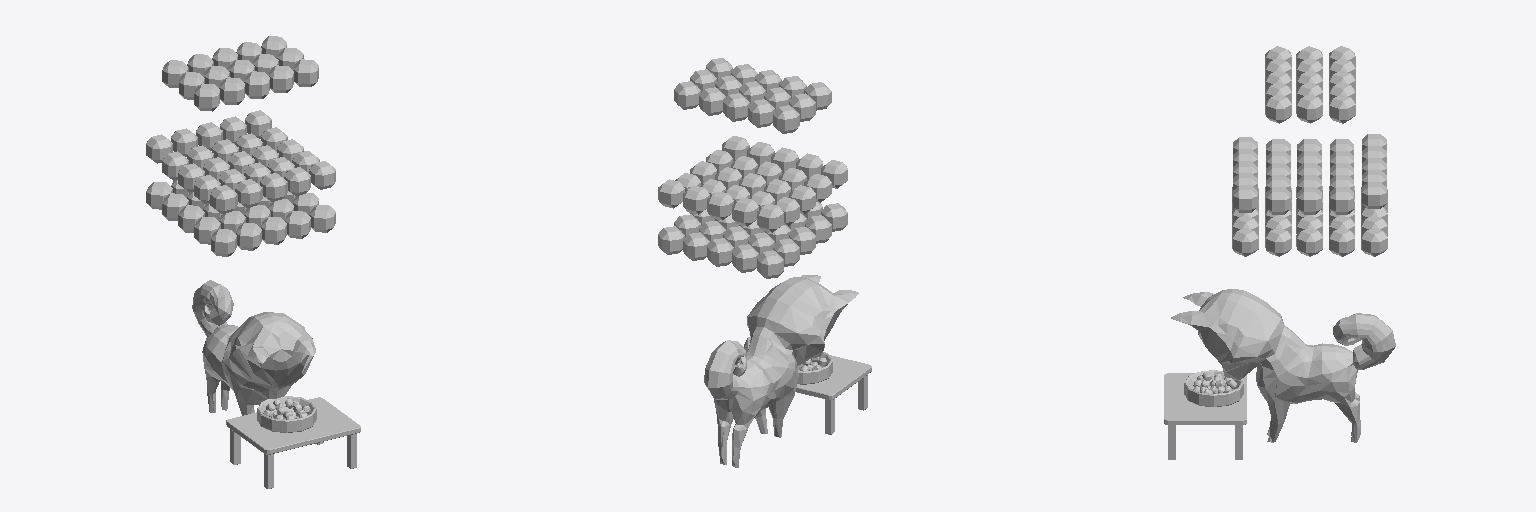
File: fullBowl_frame36.obj
3 views of the same model, side by side, from view 1: azimuth 30°, elevation 25°; view 2: azimuth 150°, elevation 25°; view 3: azimuth 270°, elevation 25° (orthographic).
Visible parts, largest first — view 1: newRigging1:BodzL1, Tisch:Tisch:pCube1, FressnapfFull:bulletRigidSetSolved1, FressnapfFull:pCube57, FressnapfFull:pCube45, FressnapfFull:pCube46, FressnapfFull:pCube36, FressnapfFull:pCube43, FressnapfFull:pCube50, FressnapfFull:pCube42, FressnapfFull:pCube48, FressnapfFull:pCube49 (+10 smaller); view 2: newRigging1:BodzL1, Tisch:Tisch:pCube1, FressnapfFull:pCube51, FressnapfFull:pCube39, FressnapfFull:pCube64, FressnapfFull:pCube53, FressnapfFull:pCube55, FressnapfFull:pCube54, FressnapfFull:pCube37, FressnapfFull:pCube38, FressnapfFull:pCube41, FressnapfFull:pCube61 (+8 smaller); view 3: newRigging1:BodzL1, Tisch:Tisch:pCube1, FressnapfFull:bulletRigidSetSolved1, FressnapfFull:pCube31, FressnapfFull:pCube55, FressnapfFull:pCube4, FressnapfFull:pCube41, FressnapfFull:pCube10, FressnapfFull:pCube36, FressnapfFull:pCube50, FressnapfFull:pCube30, FressnapfFull:pCube25 (+4 smaller).
Part boxes in pixels (bbox=[...]): newRigging1:BodzL1: bbox=[192, 280, 315, 415]; Tisch:Tisch:pCube1: bbox=[226, 397, 360, 488]; FressnapfFull:bulletRigidSetSolved1: bbox=[257, 396, 316, 432]; FressnapfFull:pCube57: bbox=[210, 185, 237, 213]; FressnapfFull:pCube45: bbox=[194, 83, 219, 111]; FressnapfFull:pCube46: bbox=[211, 229, 236, 256]; FressnapfFull:pCube36: bbox=[293, 59, 318, 86]; FressnapfFull:pCube43: bbox=[244, 71, 269, 98]; FressnapfFull:pCube50: bbox=[309, 205, 335, 232]; FressnapfFull:pCube42: bbox=[219, 77, 244, 104]; FressnapfFull:pCube48: bbox=[261, 217, 286, 244]; FressnapfFull:pCube49: bbox=[236, 223, 261, 250]; newRigging1:BodzL1: bbox=[704, 275, 858, 467]; Tisch:Tisch:pCube1: bbox=[796, 355, 871, 434]; FressnapfFull:pCube51: bbox=[757, 250, 783, 278]; FressnapfFull:pCube39: bbox=[773, 105, 799, 133]; FressnapfFull:pCube64: bbox=[757, 203, 783, 232]; FressnapfFull:pCube53: bbox=[707, 238, 733, 266]; FressnapfFull:pCube55: bbox=[658, 226, 684, 254]; FressnapfFull:pCube54: bbox=[732, 244, 758, 272]; FressnapfFull:pCube37: bbox=[748, 99, 774, 127]; FressnapfFull:pCube38: bbox=[723, 93, 749, 121]; FressnapfFull:pCube41: bbox=[674, 81, 700, 109]; FressnapfFull:pCube61: bbox=[732, 197, 758, 226]; newRigging1:BodzL1: bbox=[1171, 289, 1395, 442]; Tisch:Tisch:pCube1: bbox=[1164, 373, 1246, 459]; FressnapfFull:bulletRigidSetSolved1: bbox=[1184, 370, 1243, 406]; FressnapfFull:pCube31: bbox=[1296, 94, 1322, 123]; FressnapfFull:pCube55: bbox=[1361, 228, 1387, 256]; FressnapfFull:pCube4: bbox=[1296, 227, 1322, 256]; FressnapfFull:pCube41: bbox=[1329, 94, 1355, 123]; FressnapfFull:pCube10: bbox=[1265, 228, 1291, 256]; FressnapfFull:pCube36: bbox=[1265, 94, 1291, 123]; FressnapfFull:pCube50: bbox=[1232, 228, 1258, 256]; FressnapfFull:pCube30: bbox=[1297, 187, 1321, 214]; FressnapfFull:pCube25: bbox=[1266, 187, 1290, 214].
Size of the model in its own units: 5.73 by 16.34 by 9.44.